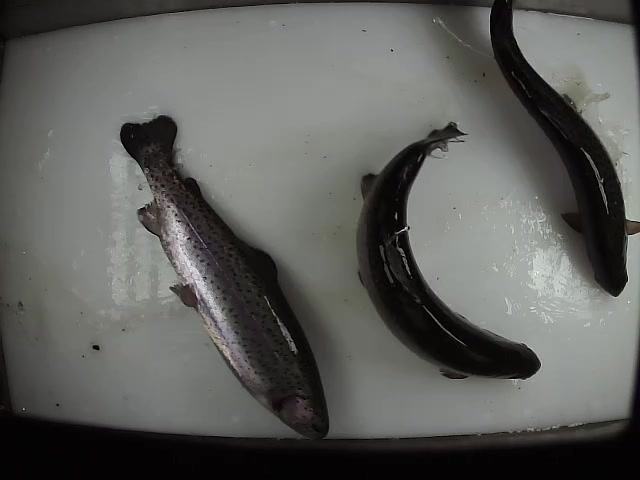fish: (117, 111, 330, 442), (350, 116, 543, 384), (484, 1, 638, 298)
